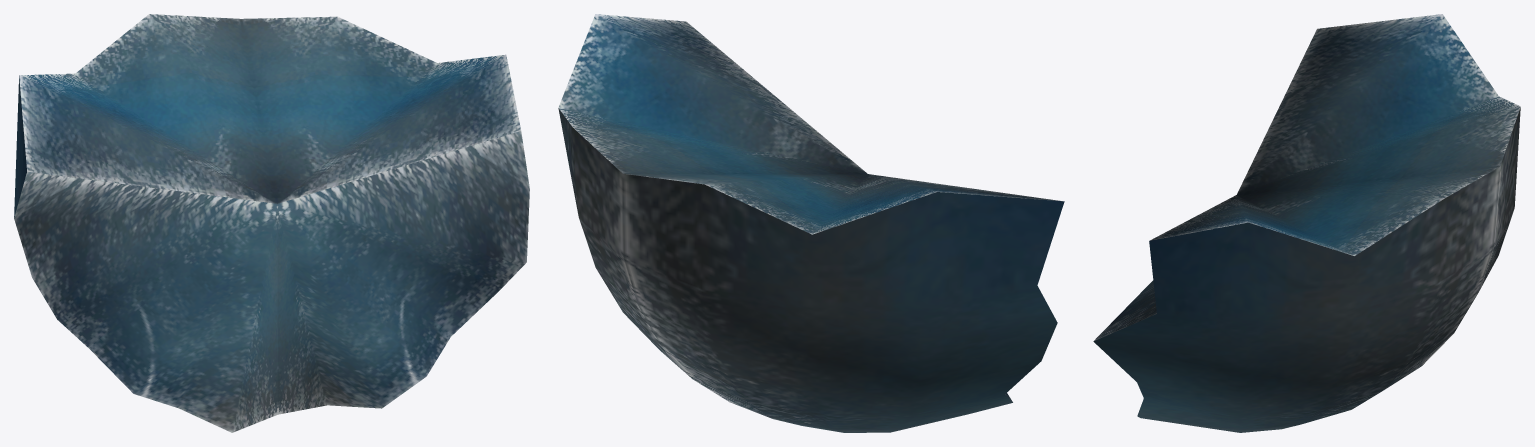
File: orb_3_of_6.dae
3 views of the same model, side by side, from view 1: azimuth 30°, elevation 25°; view 2: azimuth 150°, elevation 25°; view 3: azimuth 270°, elevation 25° (orthographic). The views are drawn at different scales.
Visible parts, largest first — view 1: orb3; view 2: orb3; view 3: orb3.
Boxes of the visible parts, <box> form: orb3: <box>14,14,529,432</box>; orb3: <box>558,14,1064,432</box>; orb3: <box>1093,14,1520,432</box>.
Size of the model in its own units: 0.3841 by 0.2462 by 0.3052.
